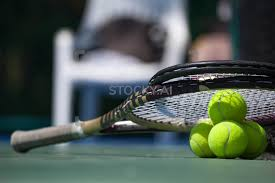tennis_ball: (208, 118, 248, 161), (208, 89, 247, 129), (188, 118, 225, 158), (234, 119, 269, 160)
